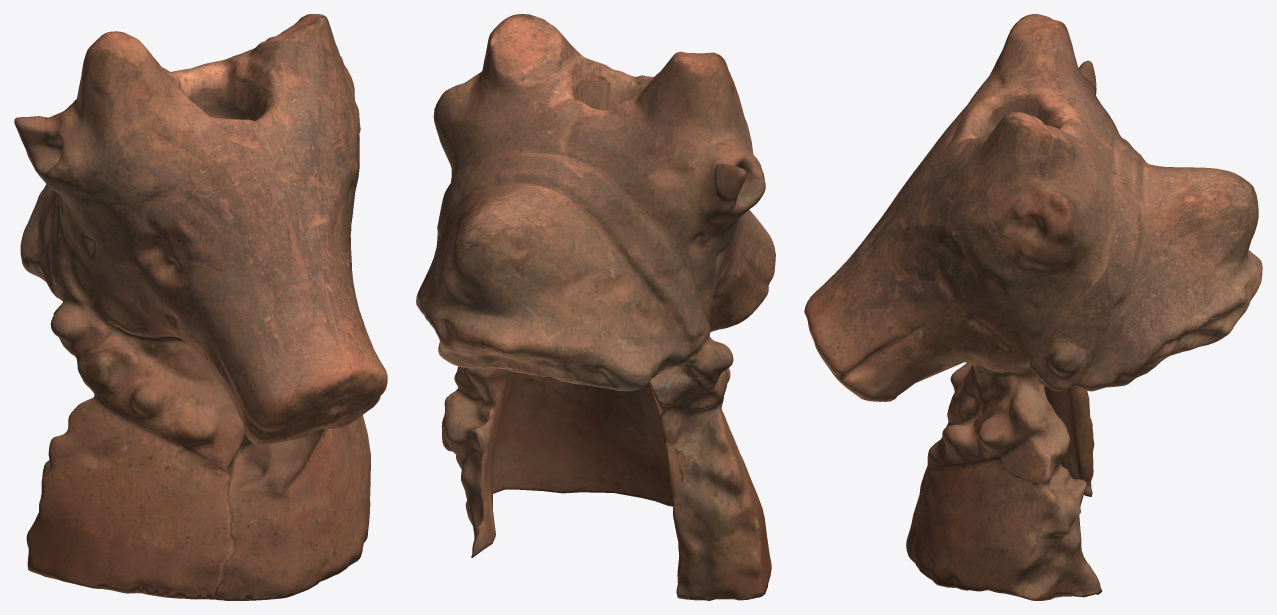
File: MysonMuseum_Bothannandin2_final.glb
The picture shows the model from 3 angles, left to right: view 1: azimuth 30°, elevation 25°; view 2: azimuth 150°, elevation 25°; view 3: azimuth 270°, elevation 25°; orthographic projection. The views are drawn at different scales.
Size of the model in its own units: 0.2609 by 0.4079 by 0.3466.
1 material, 1 textured.
